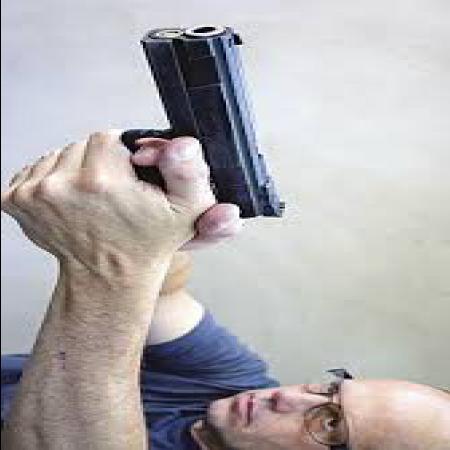Pistol: (110, 25, 286, 225)
